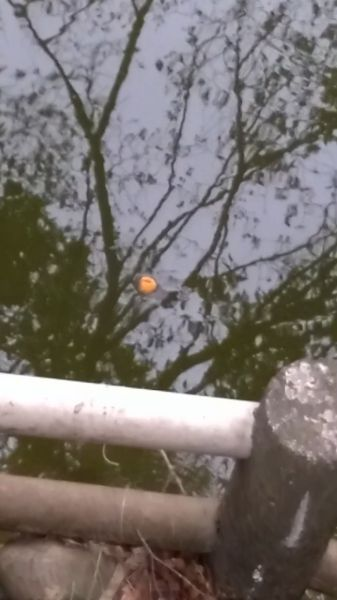eggs: (135, 273, 161, 296)
